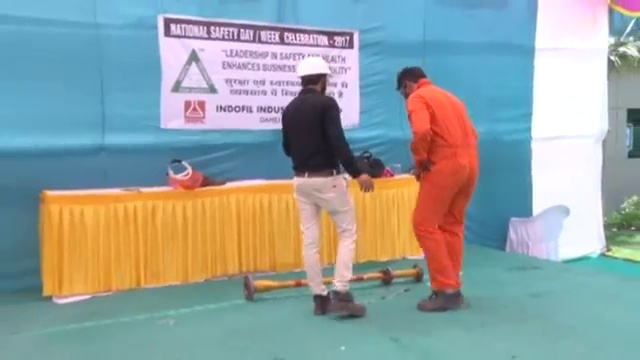helmet: (296, 55, 334, 77)
helmet_off: (395, 65, 427, 100)
helmet_on: (295, 56, 334, 95)
person: (280, 55, 371, 318), (394, 62, 482, 311)
